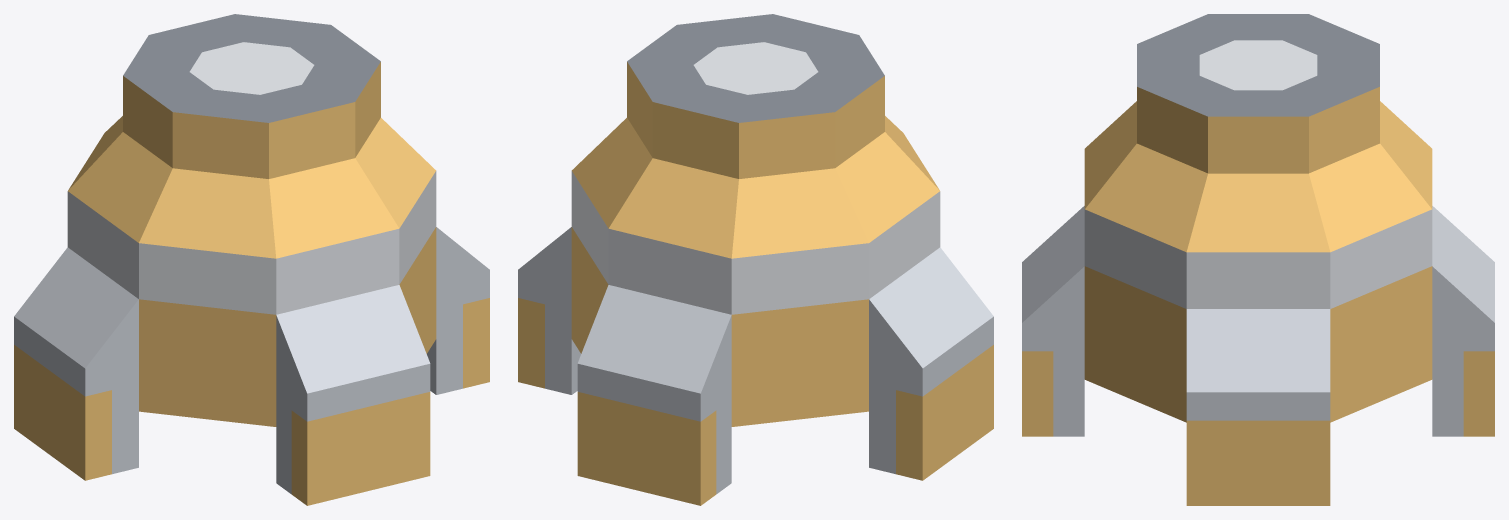
The model's file is oxygen.glb.
3 renders of one model, left to right at view 1: azimuth 30°, elevation 25°; view 2: azimuth 150°, elevation 25°; view 3: azimuth 270°, elevation 25°, orthographic.
Visible parts, largest first — view 1: machine_barrelLarge; view 2: machine_barrelLarge; view 3: machine_barrelLarge.
Boxes of the visible parts, x1,y1,x2,y2 form: machine_barrelLarge: [14, 14, 489, 505]; machine_barrelLarge: [518, 14, 993, 505]; machine_barrelLarge: [1022, 14, 1494, 505].
Bounding box in the file's own units: 0.7543 × 0.6 × 0.7543.
Materials: 1 (1 with a texture image).
